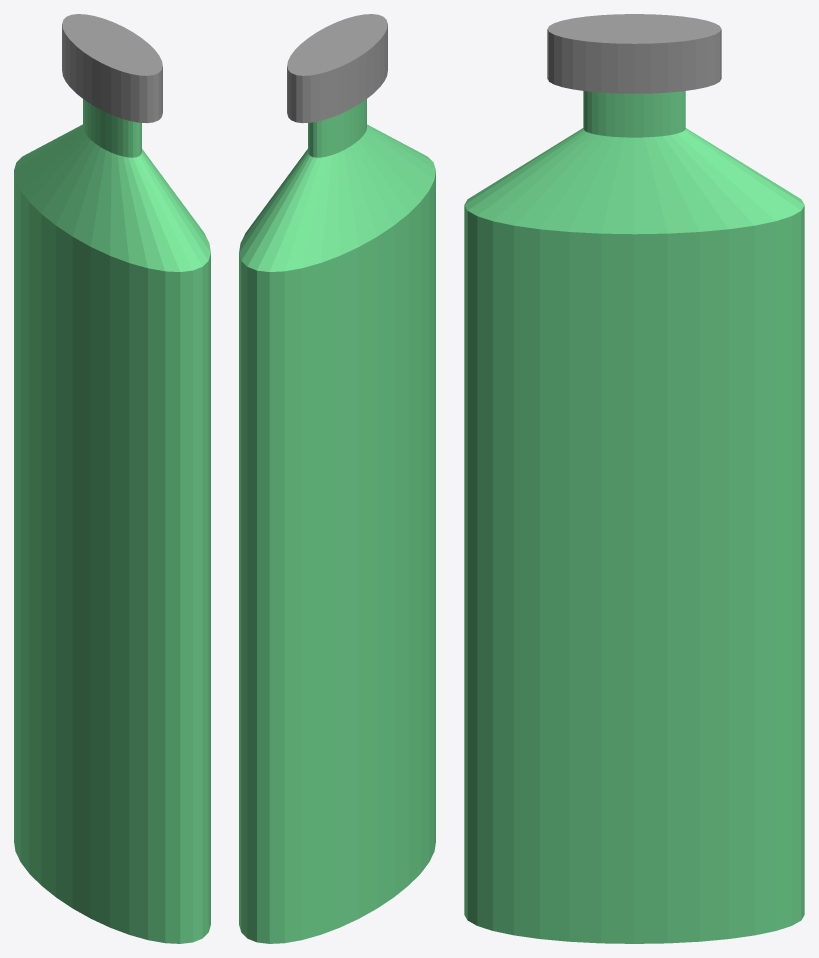
Rendered from Conditioner_001.fbx.
The picture shows the model from 3 angles, left to right: view 1: azimuth 30°, elevation 25°; view 2: azimuth 150°, elevation 25°; view 3: azimuth 270°, elevation 25°; orthographic projection. The views are drawn at different scales.
Visible parts, largest first — view 1: Conditioner.001; view 2: Conditioner.001; view 3: Conditioner.001.
Part boxes in pixels (left/top/right/bottom): Conditioner.001: left=14, top=14, right=210, bottom=943; Conditioner.001: left=239, top=14, right=435, bottom=943; Conditioner.001: left=464, top=14, right=804, bottom=943.
Size of the model in its own units: 10.23 by 72.34 by 25.2.
